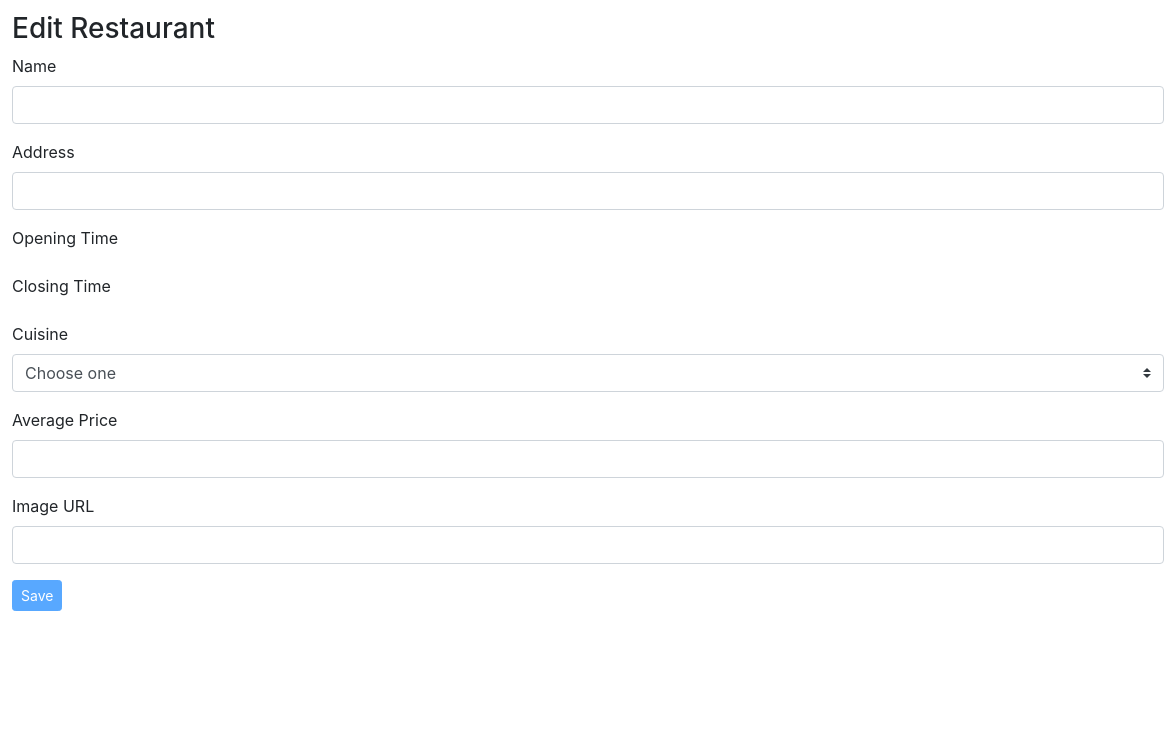
Scenario: error message appears if text input is invalid
Note: enter invalid input into text field
Step 1. Type "a" into the field labelled "Name" → {"x": 588, "y": 105}, box [12, 86, 1164, 124]
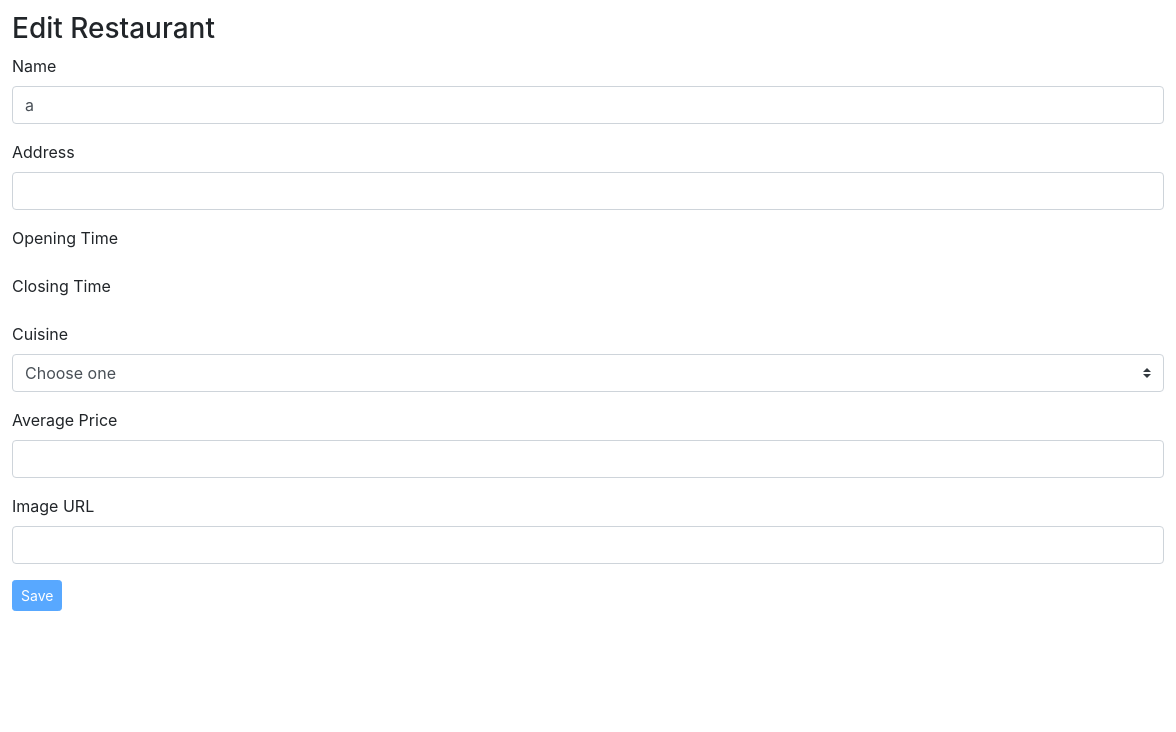
Step 2. Clear the field labelled "Name" → {"x": 588, "y": 105}, box [12, 86, 1164, 124]
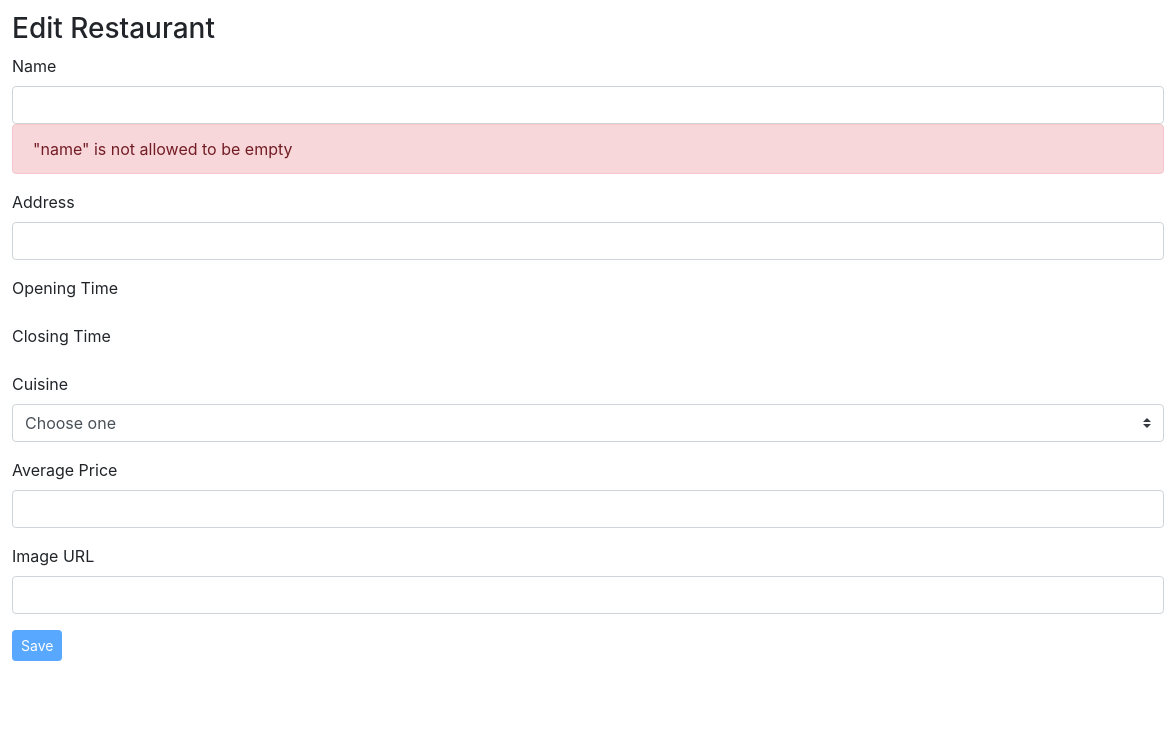
Now the text "\"name\" is not allowed to be empty" is shown, box [12, 124, 1164, 174]
Note: enter valid input into text field
Step 3. Type "Restaurant 1" into the field labelled "Name" → {"x": 588, "y": 105}, box [12, 86, 1164, 124]
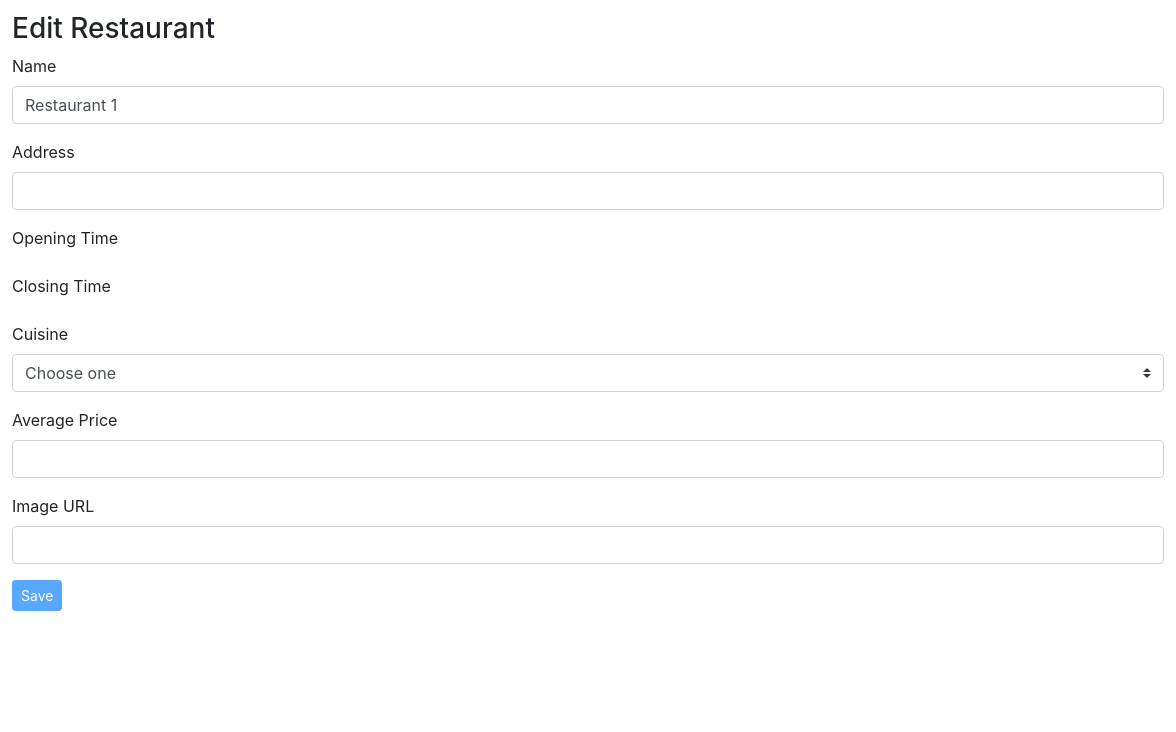
Now the text "is not allowed to be empty" is gone
